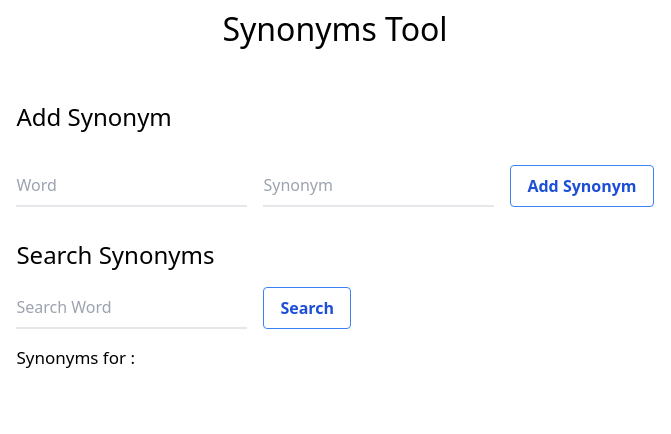
Test: Home Component › successfully retrieves synonyms when a valid search word is provided
// Enter a search word
Type "car" into the field with placeholder "Search Word" at coordinates (132, 308), box [16,287,247,329]
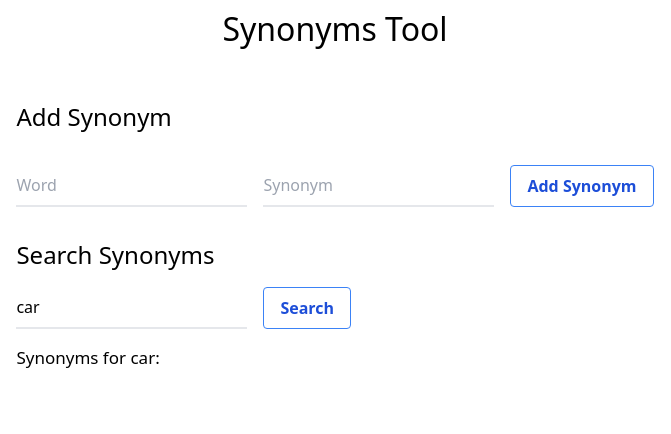
// Submit the search
Click the button "Search" at coordinates (307, 308), box [263,287,351,329]
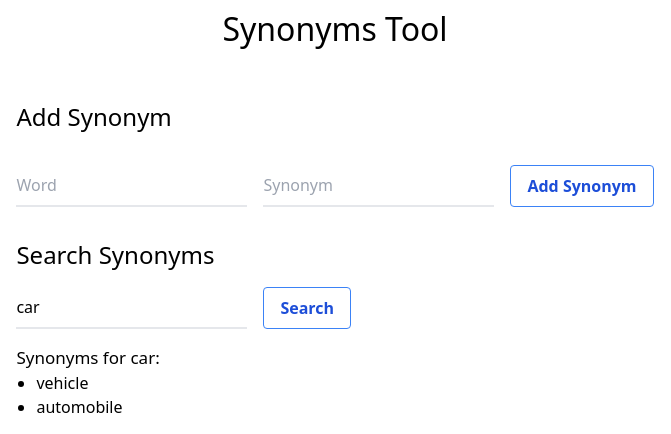
expect the list item "vehicle" is shown: met, box [36,372,88,394]
expect the list item "automobile" is shown: met, box [36,396,122,418]
